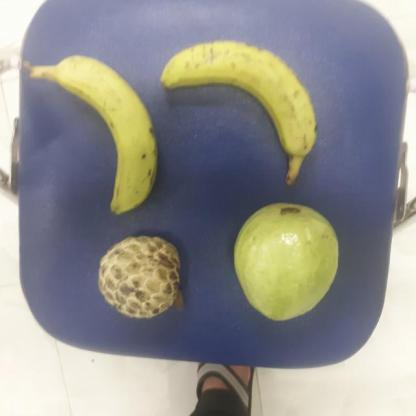annona: (98, 230, 183, 320)
banana: (154, 37, 322, 159), (53, 48, 160, 216)
guava: (224, 198, 342, 321)
